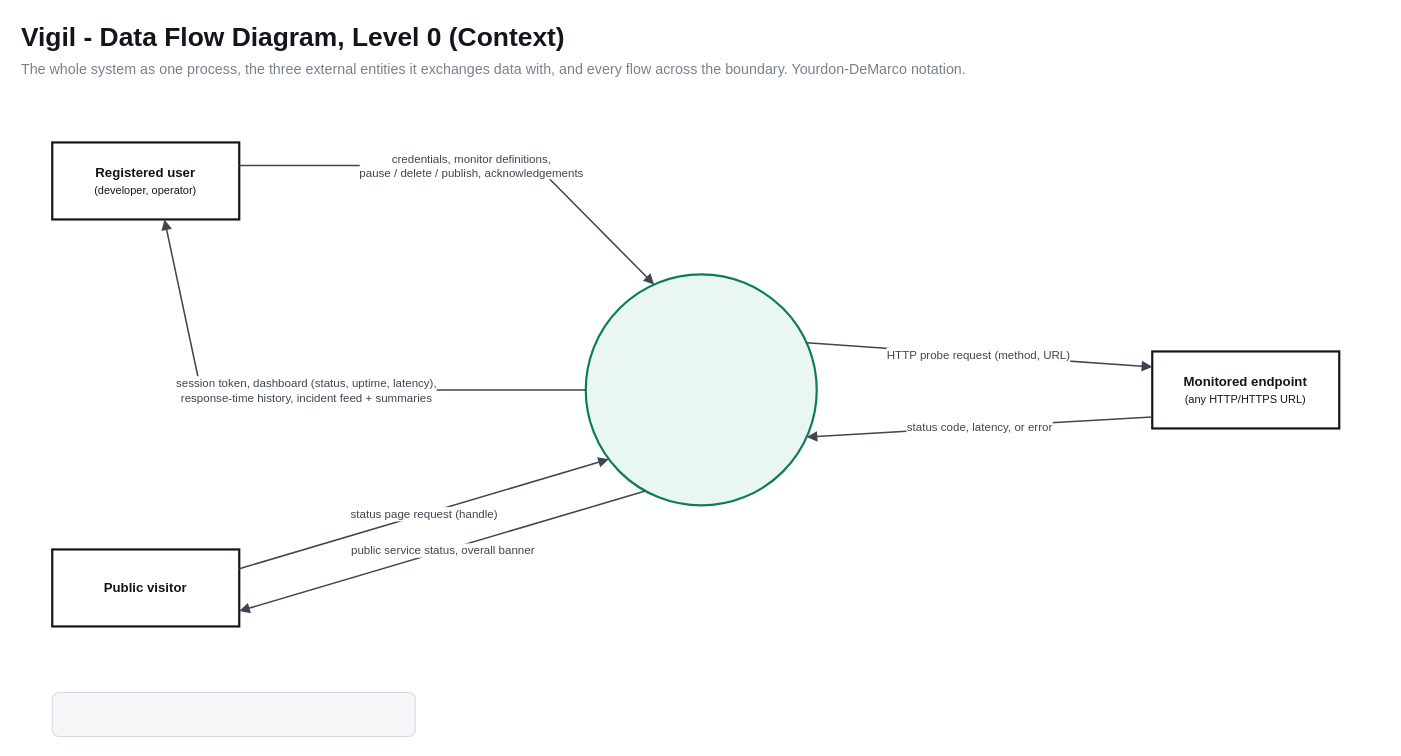
The diagram is 1401 pixels wide and 756 high, and some of its shapes have lost their labels. Each missing label, with the box of its shape:
0 Vigil Monitoring System: (584, 273, 817, 506)
Circle = process · Rectangle = external entity · Arrow = data flow: (51, 691, 415, 736)
